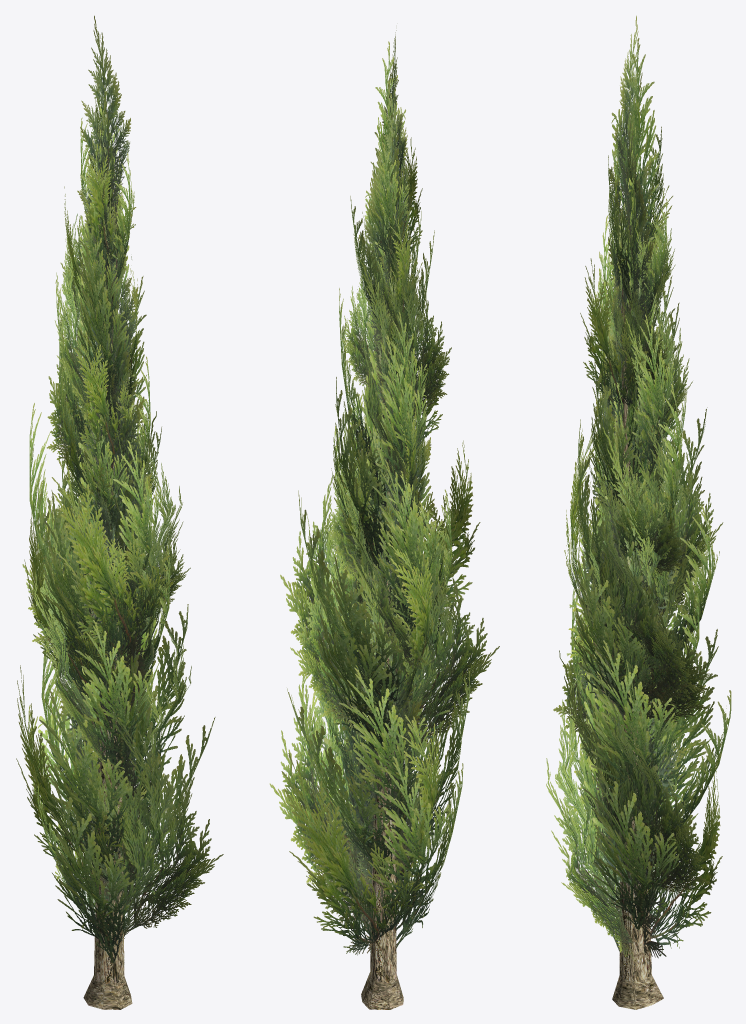
Rendered from MediumICTree.FBX.
3 renders of one model, left to right at view 1: azimuth 30°, elevation 25°; view 2: azimuth 150°, elevation 25°; view 3: azimuth 270°, elevation 25°, orthographic.
Parts seen in each view (by area): view 1: MBranch, TreeTrunk; view 2: MBranch, TreeTrunk; view 3: MBranch, TreeTrunk.
Part boxes in pixels (box(x1,y1,x2,y2)): MBranch: box(16, 15, 223, 963); TreeTrunk: box(83, 248, 132, 1009); MBranch: box(269, 30, 499, 955); TreeTrunk: box(361, 484, 403, 1009); MBranch: box(546, 15, 731, 959); TreeTrunk: box(612, 242, 663, 1009).
Size of the model in its own units: 16.8 by 85.14 by 15.31.
